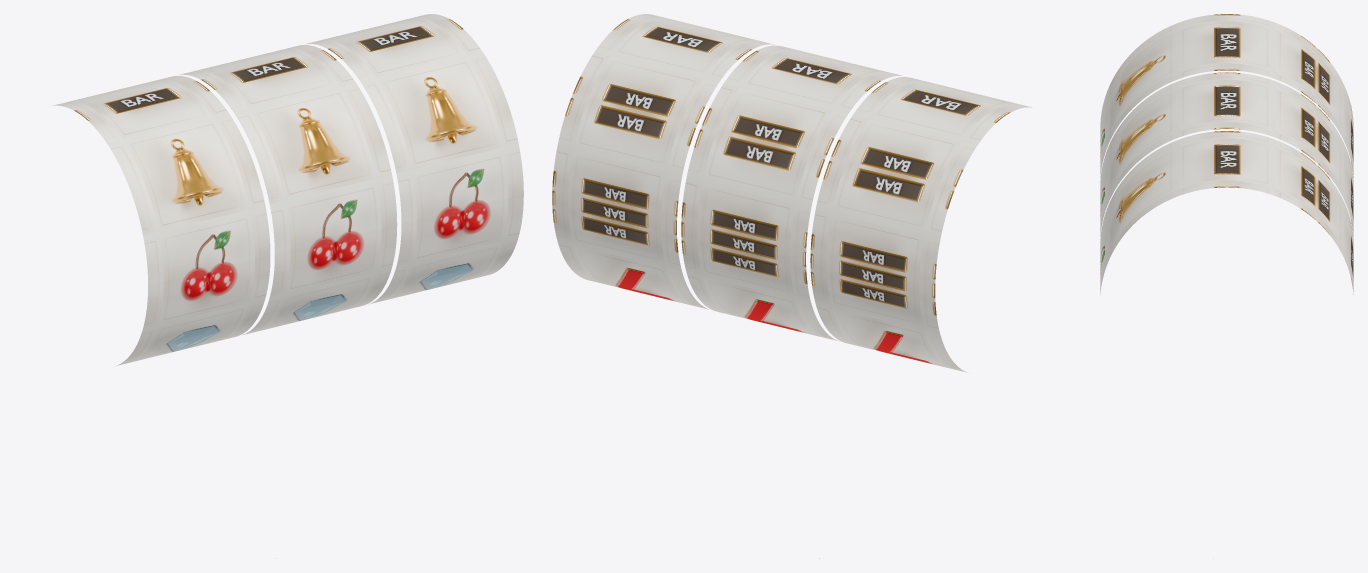
The model's file is fullscreen_classic_atrium.glb.
3 views of the same model, side by side, from view 1: azimuth 30°, elevation 25°; view 2: azimuth 150°, elevation 25°; view 3: azimuth 270°, elevation 25° (orthographic). The views are drawn at different scales.
Visible parts, largest first — view 1: Printed reel 1, Printed reel 0, Printed reel 2; view 2: Printed reel 0, Printed reel 1, Printed reel 2; view 3: Printed reel 0, Printed reel 1, Printed reel 2.
Part boxes in pixels (box(x1,y1,x2,y2)): Printed reel 1: box(179, 45, 397, 335); Printed reel 0: box(52, 76, 270, 366); Printed reel 2: box(306, 14, 523, 304); Printed reel 0: box(810, 77, 1032, 372); Printed reel 1: box(681, 45, 902, 341); Printed reel 2: box(552, 14, 775, 309); Printed reel 0: box(1100, 14, 1353, 177); Printed reel 1: box(1100, 72, 1353, 236); Printed reel 2: box(1100, 131, 1353, 294).
Size of the model in its own units: 1.23 by 1.52 by 0.76.
2 materials, 1 textured.
